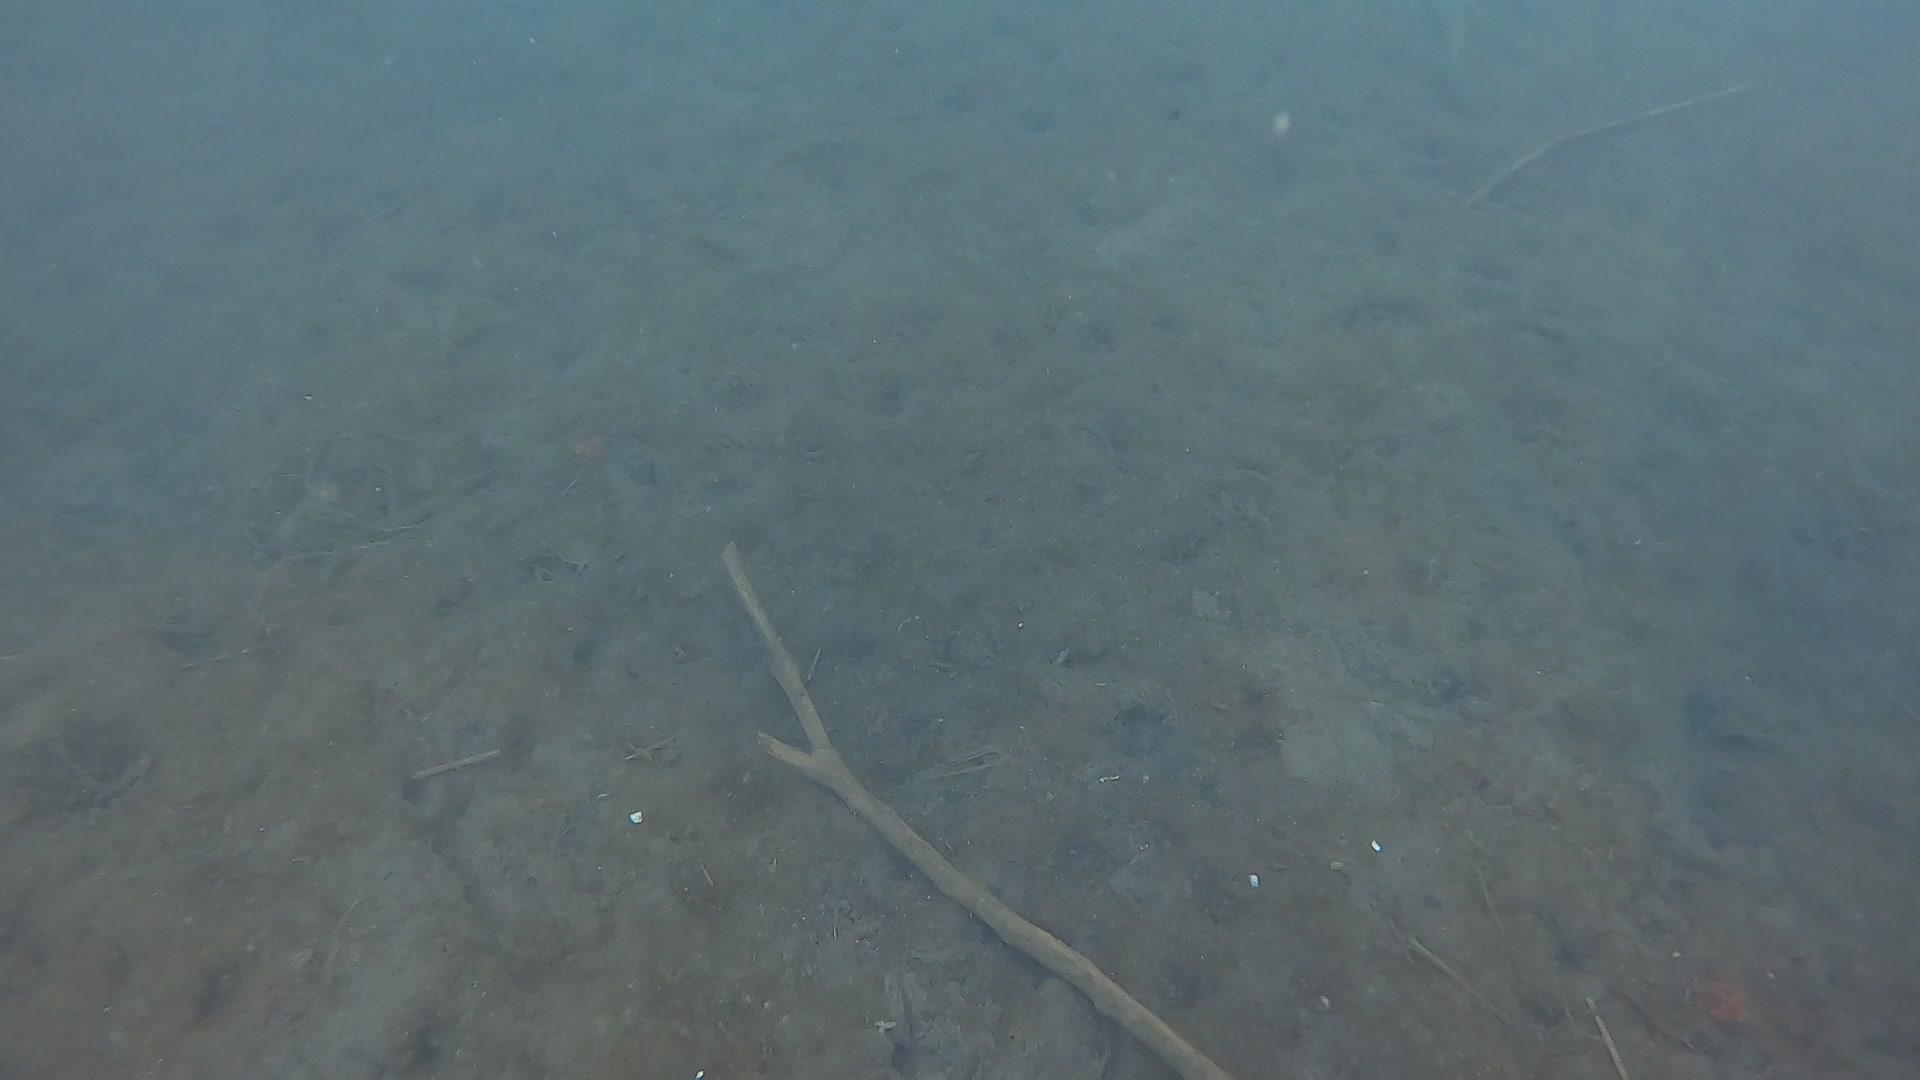wood: (717, 539, 1236, 1080)
